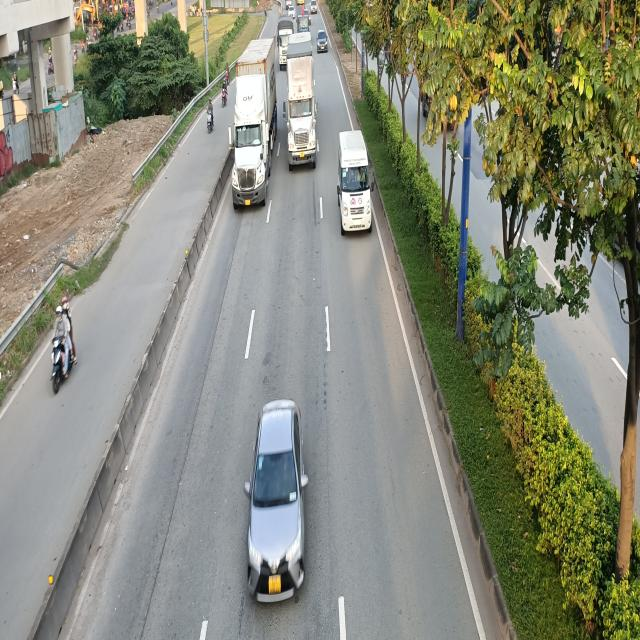car: (247, 401, 309, 601), (316, 31, 328, 53)
container: (227, 40, 275, 210), (283, 40, 317, 170)
truck: (277, 17, 294, 68)
van: (338, 134, 375, 238)
